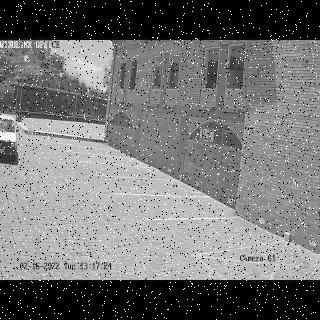car: (0, 114, 18, 162)
